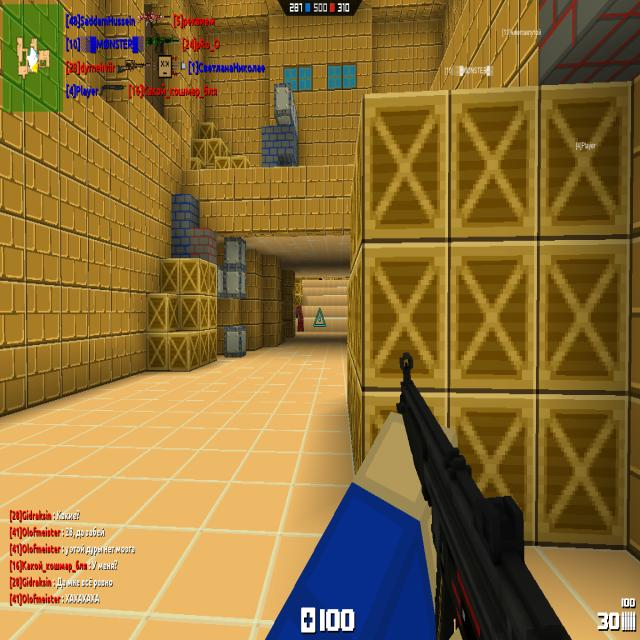enemy: (295, 303, 304, 332)
